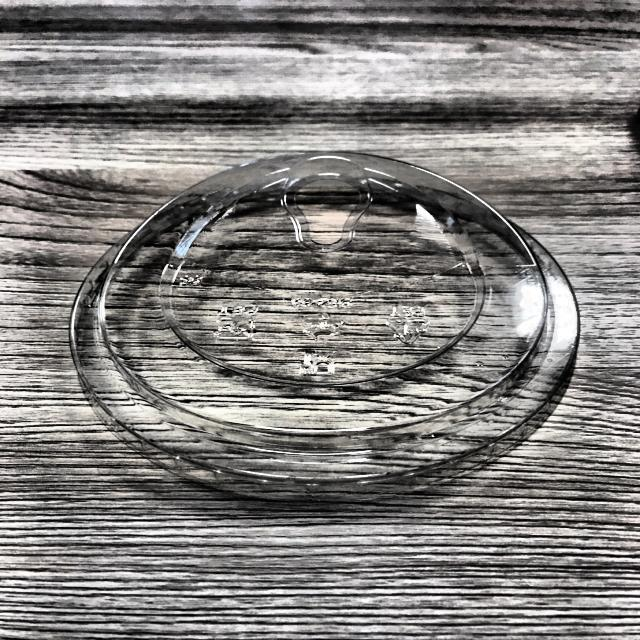plastic cup: (51, 142, 584, 516)
